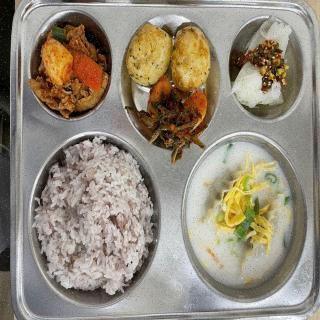Nasi: (36, 138, 140, 294)
